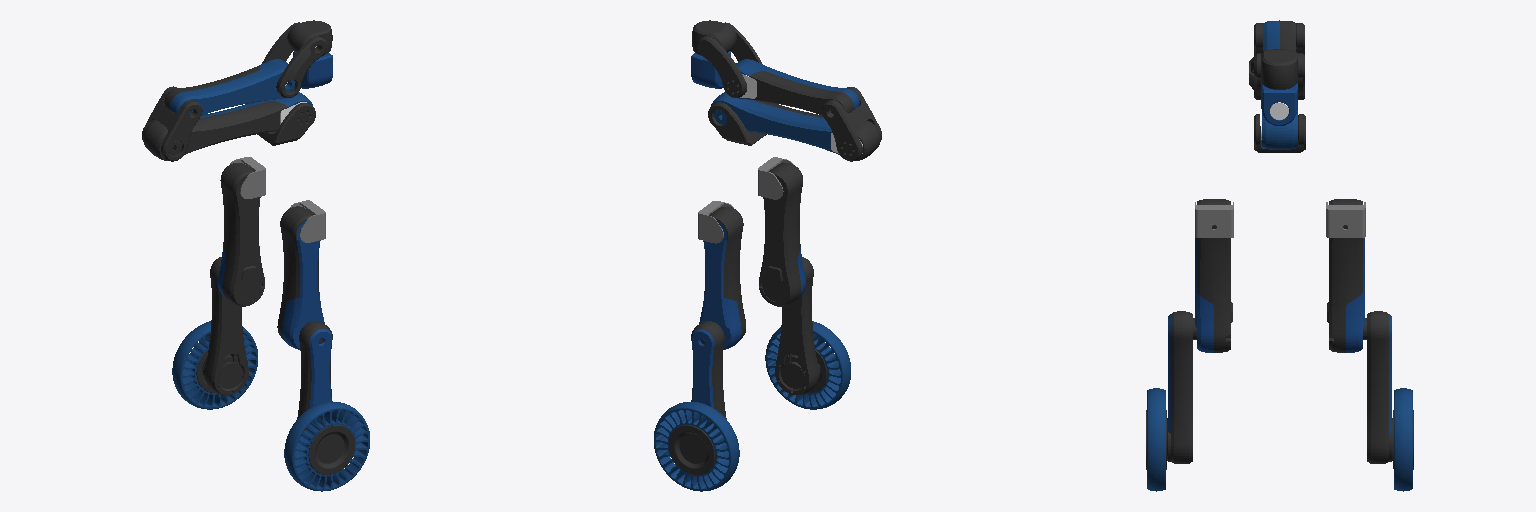
robot.urdf — v3_arm:
<?xml version="1.0" encoding="utf-8"?>
<robot name="v3_arm" xmlns:xacro="http://www.ros.org/wiki/xacro">

<!-- =================================================== v3_arm =================================================== -->

  <link name="base_link">
    <inertial>
      <origin
        xyz="0.00743277 -0.00031002 0.0824108" rpy="0 0 0" />
      <mass
        value="4.6" />
      <inertia
        ixx="0.03542461"
        ixy="-5.543E-05"
        ixz="0.00267146"
        iyy="0.04154315"
        iyz="2.215E-05"
        izz="0.04752478" />
    </inertial>
    <visual>
        <origin xyz="0 0 0" rpy="0 0 0" />
        <geometry>
          <mesh filename="package://v3_arm/meshes/base_link.dae" scale="1 1 1" />
        </geometry>
    </visual>
    <collision>
      <origin xyz="-0.005 0 0.05" rpy="0 0 0" />
      <geometry>
        <box size="0.23 0.08 0.12"/>
      </geometry>
    </collision>
    <collision>
      <origin xyz="-0.015 0 0.13" rpy="0 0 0" />
      <geometry>
        <box size="0.29 0.145 0.04"/>
      </geometry>
    </collision>
    <collision>
      <origin xyz="0 0 0.17" rpy="0 0 0" />
      <geometry>
        <box size="0.13 0.13 0.04"/>
      </geometry>
    </collision>
    <collision>
      <origin xyz="0.0864 -0.1208 0.043" rpy="0 1.57 0" />
      <geometry>
        <cylinder length="0.05" radius="0.045"/>
      </geometry>
    </collision>
    <collision>
      <origin xyz="0.0864 0.1208 0.043" rpy="0 1.57 0" />
      <geometry>
        <cylinder length="0.05" radius="0.045"/>
      </geometry>
    </collision>
  </link>

  <link name="hip_thigh_conn_r">
    <inertial>
      <origin
        xyz="-0.01563098 0.00040205 0.01402603" rpy="0 0 0" />
      <mass
        value="0.24" />
      <inertia
        ixx="0.00024193"
        ixy="-7.054E-09"
        ixz="-1.349E-05"
        iyy="0.00013104"
        iyz="6.889E-09"
        izz="0.00022826" />
    </inertial>
    <visual>
        <origin xyz="0 0 0" rpy="0 0 0" />
        <geometry>
          <mesh filename="package://v3_arm/meshes/hip_thigh_conn.dae" scale="1 1 1" />
        </geometry>
    </visual>
  </link>

  <link name="hip_thigh_conn_l">
    <inertial>
      <origin
        xyz="-0.01563098 0.00040205 0.01402603" rpy="0 0 0" />
      <mass
        value="0.24" />
      <inertia
        ixx="0.00024193"
        ixy="-7.054E-09"
        ixz="-1.349E-05"
        iyy="0.00013104"
        iyz="6.889E-09"
        izz="0.00022826" />
    </inertial>
    <visual>
        <origin xyz="0 0 0" rpy="0 0 0" />
        <geometry>
          <mesh filename="package://v3_arm/meshes/hip_thigh_conn.dae" scale="1 1 1" />
        </geometry>
    </visual>
  </link>

  <link name="thigh_r">
    <inertial>
      <origin
        xyz="-5.792E-05 -0.03537558 -0.12551777" rpy="0 0 0" />
      <mass
        value="1.52" />
      <inertia
        ixx="0.01435771"
        ixy="1.027E-06"
        ixz="-3.292E-06"
        iyy="0.01442563"
        iyz="-0.00012097"
        izz="0.00123446" />
    </inertial>
    <visual>
        <origin xyz="0 0 0" rpy="0 0 0" />
        <geometry>
          <mesh filename="package://v3_arm/meshes/thigh_r.dae" scale="1 1 1" />
        </geometry>
    </visual>
    <collision>
      <origin xyz="0 -0.0367 -0.114" rpy="0 0 0" />
      <geometry>
        <box size="0.064 0.0675 0.288"/>
      </geometry>
    </collision>
  </link>

  <link name="thigh_l">
    <inertial>
      <origin
        xyz="-5.792E-05 0.03537558 -0.12551777" rpy="0 0 0" />
      <mass
        value="1.52" />
      <inertia
        ixx="0.01435771"
        ixy="-1.027E-06"
        ixz="-3.292E-06"
        iyy="0.01442563"
        iyz="0.00012097"
        izz="0.00123446" />
    </inertial>
    <visual>
        <origin xyz="0 0 0" rpy="0 0 0" />
        <geometry>
          <mesh filename="package://v3_arm/meshes/thigh_l.dae" scale="1 1 1" />
        </geometry>
    </visual>
    <collision>
      <origin xyz="0 0.0367 -0.114" rpy="0 0 0" />
      <geometry>
        <box size="0.064 0.0675 0.288"/>
      </geometry>
    </collision>
  </link>

  <link name="calf_r">
    <inertial>
      <origin
        xyz="-7.004E-06 -0.02411355 -0.15971539" rpy="0 0 0" />
      <mass
        value="0.91" />
      <inertia
        ixx="0.00709488"
        ixy="-3.308E-08"
        ixz="9.130E-07"
        iyy="0.0073161"
        iyz="-0.0001678"
        izz="0.00050667" />
    </inertial> 
    <visual>
        <origin xyz="0 0 0" rpy="0 0 0" />
        <geometry>
          <mesh filename="package://v3_arm/meshes/calf_r.dae" scale="1 1 1" />
        </geometry>
    </visual>
    <collision>
      <origin xyz="0 -0.0223 -0.1175" rpy="0 0 0" />
      <geometry>
        <box size="0.07 0.0445 0.295"/>
      </geometry>
    </collision>
  </link>

  <link name="calf_l">
    <inertial>
      <origin
        xyz="-7.004E-06 0.02411355 -0.15971539" rpy="0 0 0" />
      <mass
        value="0.91" />
      <inertia
        ixx="0.00709488"
        ixy="3.308E-08"
        ixz="9.130E-07"
        iyy="0.0073161"
        iyz="0.0001678"
        izz="0.00050667" />
    </inertial>
    <visual>
        <origin xyz="0 0 0" rpy="0 0 0" />
        <geometry>
          <mesh filename="package://v3_arm/meshes/calf_l.dae" scale="1 1 1" />
        </geometry>
    </visual>
    <collision>
      <origin xyz="0 0.0223 -0.1175" rpy="0 0 0" />
      <geometry>
        <box size="0.07 0.0445 0.295"/>
      </geometry>
    </collision>
  </link>

  <link name="wheel_r">
    <inertial>
      <origin
        xyz="0 -0.0101505 0" rpy="0 0 0" />
      <mass
        value="0.49" />
      <inertia
        ixx="0.00104471"
        ixy="0"
        ixz="0"
        iyy="0.00199485"
        iyz="0"
        izz="0.00104471" />
    </inertial>
    <visual>
        <origin xyz="0 0 0" rpy="0 0 0" />
        <geometry>
          <mesh filename="package://v3_arm/meshes/wheel_r.dae" scale="1 1 1" />
        </geometry>
    </visual>
    <collision>
      <origin xyz="0 -0.0097 0" rpy="1.57 0 0" />
      <geometry>
        <cylinder length="0.035" radius="0.0925"/>
      </geometry>
    </collision>
  </link>

  <link name="wheel_l">
    <inertial>
      <origin
        xyz="0 0.0101505 0" rpy="0 0 0" />
      <mass
        value="0.49" />
      <inertia
        ixx="0.00104471"
        ixy="0"
        ixz="0"
        iyy="0.00199485"
        iyz="0"
        izz="0.00104471" />
    </inertial>
    <visual>
        <origin xyz="0 0 0" rpy="0 0 0" />
        <geometry>
          <mesh filename="package://v3_arm/meshes/wheel_l.dae" scale="1 1 1" />
        </geometry>
    </visual>
    <collision>
      <origin xyz="0 0.0097 0" rpy="1.57 0 0" />
      <geometry>
        <cylinder length="0.035" radius="0.0925"/>
      </geometry>
    </collision>
  </link>

  <joint name="hip_r_joint" type="revolute">
    <parent link="base_link"/>
    <child link="hip_thigh_conn_r"/>
    <origin xyz="0.0303 -0.1208 0.04299" rpy="0 0 0"/>
    <axis xyz="1 0 0"/>
    <limit
      lower="-1.0472"
      upper="0.6108"
      effort="0"
      velocity="0" />
  </joint>

  <joint name="thigh_r_joint" type="revolute">
    <parent link="hip_thigh_conn_r"/>
    <child link="thigh_r"/>
    <origin xyz="-0.04 0.034 0" rpy="0 0 0"/>
    <axis xyz="0 1 0"/>
    <limit
      lower="0"
      upper="1.74533"
      effort="0"
      velocity="0" />
  </joint>

  <joint name="calf_r_joint" type="revolute">
    <parent link="thigh_r"/>
    <child link="calf_r"/>
    <origin xyz="0 -0.0741 -0.225" rpy="0 0 0"/>
    <axis xyz="0 1 0"/>
    <limit
      lower="-3.229"
      upper="0"
      effort="0"
      velocity="0" />
  </joint>

  <joint name="wheel_r_joint" type="revolute">
    <parent link="calf_r"/>
    <child link="wheel_r"/>
    <origin xyz="0 -0.0563 -0.225" rpy="0 0 0"/>
    <axis xyz="0 1 0"/>
    <limit
      effort="11.0"
      velocity="15.708" />
  </joint>

  <joint name="hip_l_joint" type="revolute">
    <parent link="base_link"/>
    <child link="hip_thigh_conn_l"/>
    <origin xyz="0.0303 0.1208 0.04299" rpy="0 0 0"/>
    <axis xyz="1 0 0"/>
    <limit
      lower="-0.6108"
      upper="1.0472"
      effort="0"
      velocity="0" />
  </joint>

  <joint name="thigh_l_joint" type="revolute">
    <parent link="hip_thigh_conn_l"/>
    <child link="thigh_l"/>
    <origin xyz="-0.04 -0.034 0" rpy="0 0 0"/>
    <axis xyz="0 1 0"/>
    <limit
      lower="0"
      upper="1.74533"
      effort="0"
      velocity="0" />
  </joint>

  <joint name="calf_l_joint" type="revolute">
    <parent link="thigh_l"/>
    <child link="calf_l"/>
    <origin xyz="0 0.0741 -0.225" rpy="0 0 0"/>
    <axis xyz="0 1 0"/>
    <limit
      lower="-3.229"
      upper="0"
      effort="0"
      velocity="0" />
  </joint>

  <joint name="wheel_l_joint" type="revolute">
    <parent link="calf_l"/>
    <child link="wheel_l"/>
    <origin xyz="0 0.0563 -0.225" rpy="0 0 0"/>
    <axis xyz="0 1 0"/>
    <limit
      effort="11.0"
      velocity="15.708" />
  </joint>

<!-- =================================================== Ｒobot arm =================================================== -->
  
  <joint name="arm_joint" type="revolute">
    <parent link="base_link"/>
    <child link="arm_base"/>
    <origin xyz="0.00095065 -0.00034599 0.19273537" rpy="0 0 0"/>
    <axis xyz="0 0 1"/>
    <limit
      lower="-1.5708"
      upper="1.5708"
      effort="0"
      velocity="0" />
  </joint>

  <link name="arm_base">
    <inertial>
      <origin
        xyz="0.01289341 -0.00240469 0.02505713" rpy="0 0 0" />
      <mass
        value="0.2549039" />
      <inertia
        ixx="0.00040576"
        ixy="1.895E-05"
        ixz="-6.422E-05"
        iyy="0.00024781"
        iyz="1.820E-05"
        izz="0.00043057" />
    </inertial>
    <visual>
      <origin xyz="0 0 0" rpy="0 0 0"/>
      <geometry>
        <mesh filename="package://v3_arm/meshes/arm_base.dae" scale="1 1 1" />
      </geometry>
    </visual>
  </link>

  <link name="upper_arm">
    <inertial>
      <origin
        xyz="-0.15001643 0.03546654 1.966E-07" rpy="0 0 0" />
      <mass
        value="1.25745063" />
      <inertia
        ixx="0.00094754"
        ixy="-5.064E-05"
        ixz="4.228E-07"
        iyy="0.02025073"
        iyz="-9.390E-08"
        izz="0.02033103" />
    </inertial>
    <visual>
      <origin xyz="0 0 0" rpy="0 0 0"/>
      <geometry>
        <mesh filename="package://v3_arm/meshes/upper_arm.dae" scale="1 1 1" />
      </geometry>
    </visual>
    <collision>
      <origin xyz="-0.1427 0.03553 0" rpy="0 0 0" />
      <geometry>
        <box size="0.353 0.07 0.068"/>
      </geometry>
    </collision>
  </link>

  <link name="fore_arm">
    <inertial>
      <origin
        xyz="0.14561787 -0.03548906 0.06430799" rpy="0 0 0" />
      <mass
        value="0.97574223" />
      <inertia
        ixx="0.00127617"
        ixy="8.280E-05"
        ixz="-0.00132342"
        iyy="0.01186663"
        iyz="4.761E-05"
        izz="0.01184965" />
    </inertial>
    <visual>
      <origin xyz="0 0 0" rpy="0 0 0"/>
      <geometry>
        <mesh filename="package://v3_arm/meshes/fore_arm.dae" scale="1 1 1" />
      </geometry>
    </visual>
    <collision>
      <origin xyz="0.1408 -0.0353 0.075" rpy="0 0 0" />
      <geometry>
        <box size="0.26 0.062 0.06"/>
      </geometry>
    </collision>
  </link>

  <link name="5dof">
    <inertial>
      <origin xyz="0.05653239 -0.03269584 0.05685774" rpy="0 0 0" />
      <mass value="0.54504586" />
      <inertia
        ixx="0.00088771"
        ixy="3.583E-06"
        ixz="-0.00035744"
        iyy="0.00105194"
        iyz="1.221E-05"
        izz="0.00109347" />
    </inertial>
    <visual>
      <origin xyz="0 0 0" rpy="0 0 0"/>
      <geometry>
        <mesh filename="package://v3_arm/meshes/5dof.dae" scale="1 1 1" />
      </geometry>
    </visual>
    <collision>
      <origin xyz="0.079 -0.0323 0.07075" rpy="0 0 0" />
      <geometry>
        <box size="0.065 0.065 0.06"/>
      </geometry>
    </collision>
  </link>

  <link name="6dof">
    <inertial>
      <origin xyz="-0.00187795 -1.398E-08 -0.03443114" rpy="0 0 0" />
      <mass value="0.36685284" />
      <inertia
        ixx="0.00026279"
        ixy="-1.526E-10"
        ixz="-2.505E-06"
        iyy="0.00025222"
        iyz="1.742E-10"
        izz="0.00023237" />
    </inertial>
    <visual>
      <origin xyz="0 0 0" rpy="0 0 0"/>
      <geometry>
        <mesh filename="package://v3_arm/meshes/6dof.dae" scale="1 1 1" />
      </geometry>
    </visual>
    <collision>
      <origin xyz="-0.002 0 -0.037" rpy="0 0 0" />
      <geometry>
        <box size="0.06 0.065 0.072"/>
      </geometry>
    </collision>
  </link>

  <joint name="arm_base_joint" type="revolute">
    <parent link="arm_base"/>
    <child link="upper_arm"/>
    <origin xyz="0.0392 -0.0355 0.052" rpy="0 0 0"/>
    <axis xyz="0 1 0"/>
    <limit
      lower="0"
      upper="3.1416"
      effort="0"
      velocity="0" />
  </joint>

  <joint name="upper_arm_joint" type="revolute">
    <parent link="upper_arm"/>
    <child link="fore_arm"/>
    <origin xyz="-0.3 0.07082 0" rpy="0 0 0"/>
    <axis xyz="0 1 0"/>
    <limit
      lower="-3.1416"
      upper="0"
      effort="0"
      velocity="0" />
  </joint>

  <joint name="fore_arm_joint" type="revolute">
    <parent link="fore_arm"/>
    <child link="5dof"/>
    <origin xyz="0.2698 -0.00295 0.075" rpy="0 0 0"/>
    <axis xyz="0 1 0"/>
    <limit
      lower="-1.5708"
      upper="1.7453"
      effort="0"
      velocity="0" />
  </joint>

  <joint name="5dof_joint" type="revolute">
    <parent link="5dof"/>
    <child link="6dof"/>
    <origin xyz="0.08 -0.0328 0.04075" rpy="0 0 0"/>
    <axis xyz="0 0 1"/>
    <limit
      lower="-1.5708"
      upper="1.5708"
      effort="0"
      velocity="0" />
  </joint>

</robot>

--- Facts derived from the render (not from the file) ---
Views: 3 orthographic renders of the robot side by side, from view 1: azimuth 30°, elevation 25°; view 2: azimuth 150°, elevation 25°; view 3: azimuth 270°, elevation 25°.
Model v3_arm with 14 links and 13 joints (13 revolute), rooted at base_link, posed every joint at zero.
Links seen in each view (by area): view 1: wheel_r, fore_arm, thigh_l, thigh_r, upper_arm, calf_l, wheel_l, 5dof, calf_r, arm_base, hip_thigh_conn_r, hip_thigh_conn_l (+1 smaller); view 2: wheel_l, fore_arm, thigh_r, thigh_l, upper_arm, calf_r, wheel_r, 5dof, calf_l, arm_base, hip_thigh_conn_l, hip_thigh_conn_r (+1 smaller); view 3: thigh_r, thigh_l, calf_r, calf_l, 5dof, wheel_r, wheel_l, fore_arm, hip_thigh_conn_l, hip_thigh_conn_r, 6dof, upper_arm (+1 smaller).
Boxes of the visible links, x1=… form: wheel_r: x1=284, y1=402, x2=369, y2=491; fore_arm: x1=142, y1=59, x2=294, y2=161; thigh_l: x1=218, y1=163, x2=264, y2=306; thigh_r: x1=277, y1=206, x2=324, y2=349; upper_arm: x1=143, y1=92, x2=312, y2=160; calf_l: x1=203, y1=257, x2=248, y2=395; wheel_l: x1=172, y1=321, x2=257, y2=409; 5dof: x1=262, y1=20, x2=332, y2=97; calf_r: x1=297, y1=321, x2=332, y2=435; arm_base: x1=257, y1=103, x2=315, y2=145; hip_thigh_conn_r: x1=289, y1=200, x2=325, y2=242; hip_thigh_conn_l: x1=230, y1=157, x2=265, y2=198; wheel_l: x1=654, y1=402, x2=739, y2=491; fore_arm: x1=736, y1=59, x2=881, y2=161; thigh_r: x1=759, y1=163, x2=805, y2=306; thigh_l: x1=699, y1=207, x2=745, y2=349; upper_arm: x1=711, y1=92, x2=880, y2=160; calf_r: x1=775, y1=257, x2=820, y2=395; wheel_r: x1=765, y1=321, x2=850, y2=409; 5dof: x1=692, y1=20, x2=761, y2=97; calf_l: x1=691, y1=321, x2=726, y2=435; arm_base: x1=708, y1=102, x2=766, y2=145; hip_thigh_conn_l: x1=698, y1=201, x2=733, y2=242; hip_thigh_conn_r: x1=758, y1=157, x2=793, y2=199; thigh_r: x1=1193, y1=199, x2=1232, y2=352; thigh_l: x1=1327, y1=199, x2=1366, y2=352; calf_r: x1=1167, y1=311, x2=1192, y2=463; calf_l: x1=1367, y1=311, x2=1392, y2=463; 5dof: x1=1249, y1=49, x2=1304, y2=99; wheel_r: x1=1146, y1=388, x2=1166, y2=491; wheel_l: x1=1393, y1=388, x2=1413, y2=491; fore_arm: x1=1254, y1=20, x2=1304, y2=55; hip_thigh_conn_l: x1=1326, y1=202, x2=1365, y2=237; hip_thigh_conn_r: x1=1195, y1=202, x2=1233, y2=237; 6dof: x1=1261, y1=82, x2=1297, y2=125; upper_arm: x1=1261, y1=110, x2=1297, y2=149.
Bounding box of the posed robot: 0.4247 × 0.494 × 0.9202 m (x, y, z).
13 mesh visuals loaded from 13 distinct referenced files (12 Collada DAE); not drawn: 1 (reference not matched to a file when rendering).
